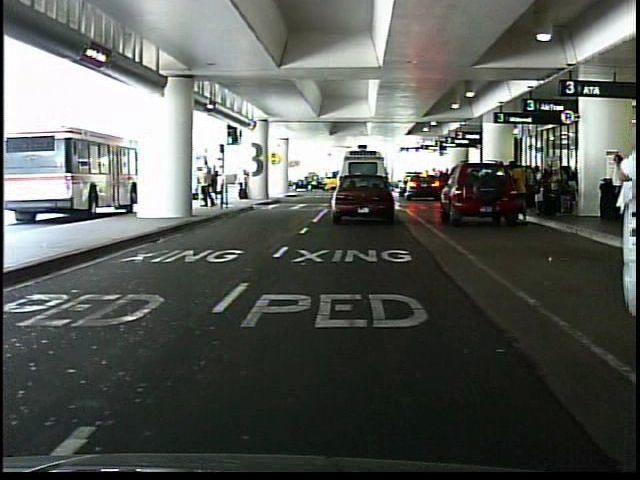person: (600, 149, 628, 232), (199, 155, 218, 211), (514, 159, 525, 223), (237, 166, 255, 203), (210, 162, 223, 209)
